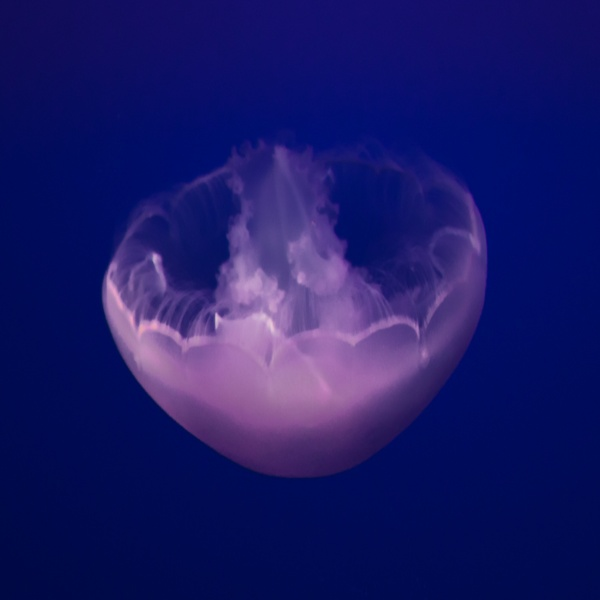Jellyfish: (121, 119, 488, 462)
